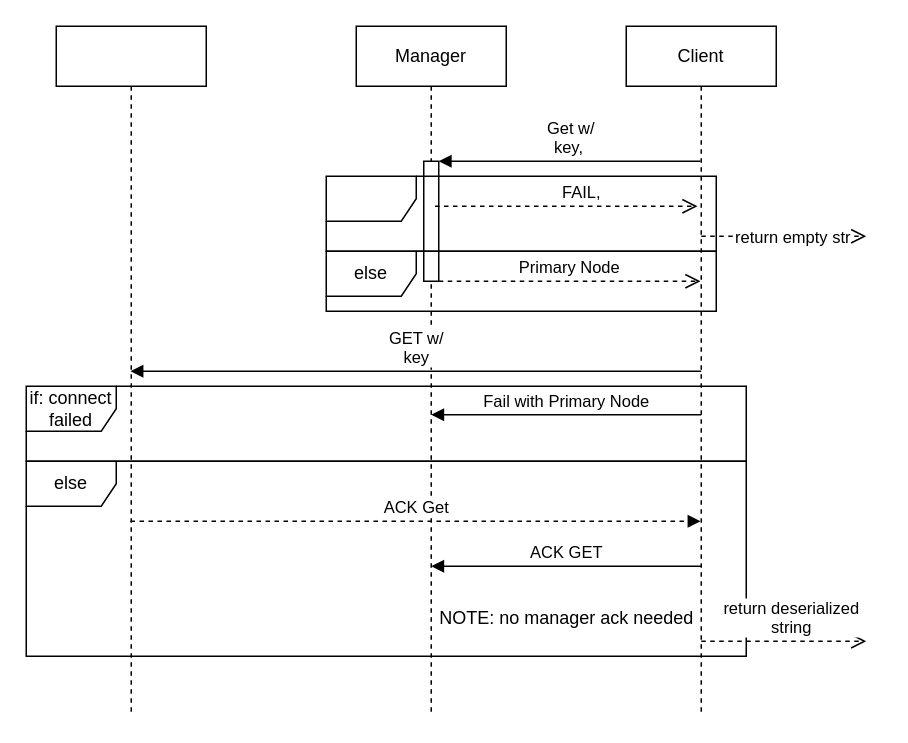
Some shapes in this 908 by 743 pixel diagram are drawn without their labels. Here are the shapes that lost their labels. From the top down, the box of each, then its label:
(325, 175, 716, 251): if: no map
(55, 25, 206, 716): Primary
